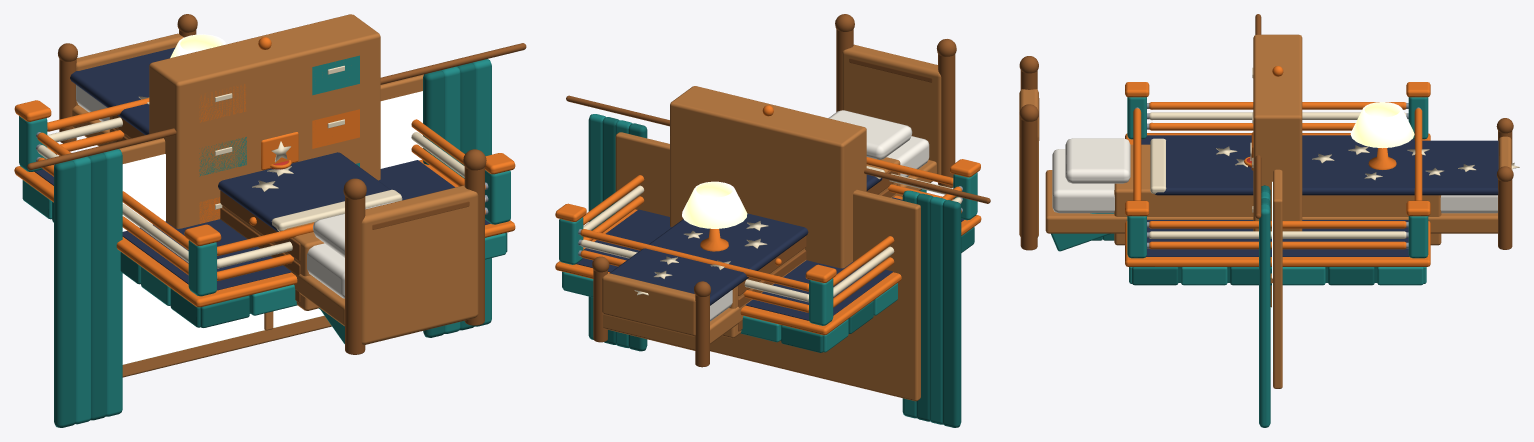
File: bedroom.glb
3 renders of one model, left to right at view 1: azimuth 30°, elevation 25°; view 2: azimuth 150°, elevation 25°; view 3: azimuth 270°, elevation 25°, orthographic. The views are drawn at different scales.
Visible parts, largest first — view 1: Window, Bed, Bookshelf, RingBase, Dresser, RopeXN, RopeZP, RopeZN, RopeXP, RobotBody; view 2: Window, Bed, Bookshelf, RingBase, Dresser, RopeZN, RopeXN, RopeXP, RopeZP; view 3: Bed, RingBase, Dresser, Bookshelf, RopeXP, Window, RopeXN, RopeZP, RopeZN.
Boxes of the visible parts, bbox=[...] form: Window: bbox=[27, 43, 526, 427]; Bed: bbox=[58, 14, 486, 354]; Bookshelf: bbox=[149, 14, 380, 228]; RingBase: bbox=[14, 100, 515, 343]; Dresser: bbox=[109, 34, 324, 310]; RopeXN: bbox=[37, 132, 188, 275]; RopeZP: bbox=[217, 185, 485, 280]; RopeZN: bbox=[47, 98, 149, 154]; RopeXP: bbox=[411, 119, 464, 186]; RobotBody: bbox=[258, 37, 298, 170]; Window: bbox=[566, 95, 990, 427]; Bed: bbox=[592, 14, 956, 367]; Bookshelf: bbox=[670, 86, 866, 268]; RingBase: bbox=[555, 159, 981, 352]; Dresser: bbox=[682, 157, 900, 338]; RopeZN: bbox=[580, 229, 808, 312]; RopeXN: bbox=[833, 186, 961, 307]; RopeXP: bbox=[583, 175, 644, 240]; RopeZP: bbox=[866, 157, 953, 200]; Bed: bbox=[1019, 56, 1519, 250]; RingBase: bbox=[1051, 82, 1430, 285]; Dresser: bbox=[1114, 102, 1441, 245]; Bookshelf: bbox=[1252, 34, 1302, 231]; RopeXP: bbox=[1149, 221, 1406, 249]; Window: bbox=[1255, 14, 1282, 427]; RopeXN: bbox=[1149, 102, 1406, 130]; RopeZP: bbox=[1133, 108, 1141, 200]; RopeZN: bbox=[1414, 108, 1422, 200].
Size of the model in its own units: 14.58 by 9.29 by 15.31.
